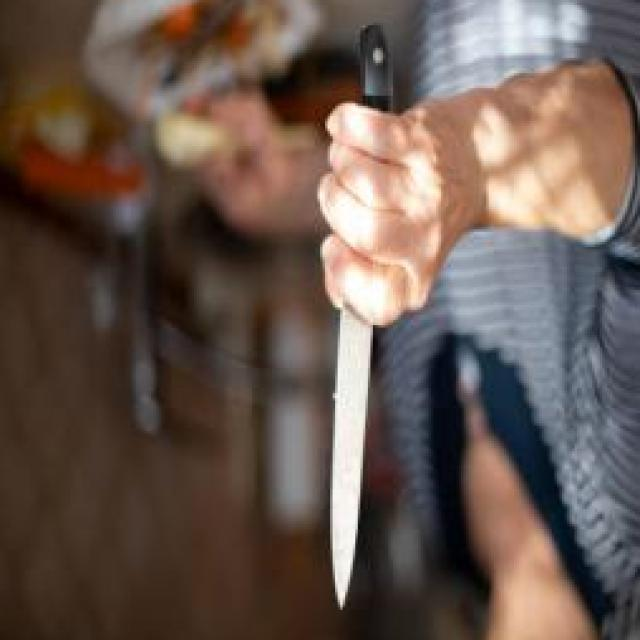knife: (325, 22, 396, 610)
